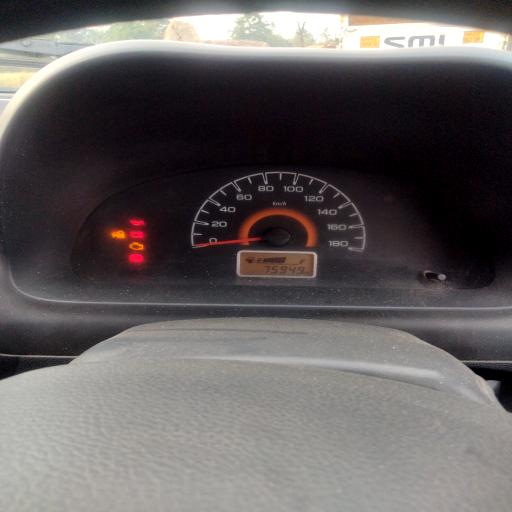car_closed: (111, 230, 126, 239)
check_engine: (129, 242, 144, 251)
oil: (130, 220, 144, 226)
vehicle_charging: (130, 231, 143, 238)
